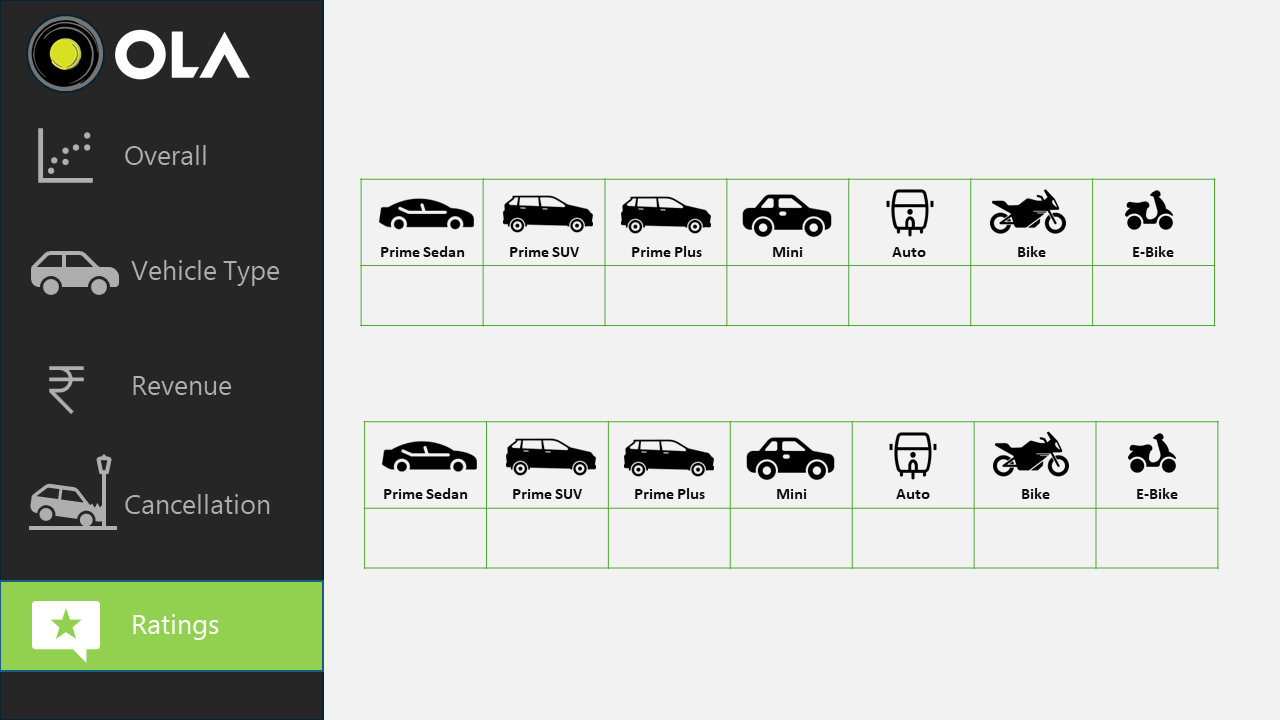

The page's visual inventory and layout, read from the dashboard file:
{"tool":"powerbi","page":{"name":"Ratings","canvas":[1280,720],"ordinal":4},"visuals":[{"type":"actionButton","box":[0,102.5,324.5,96.5],"z":0},{"type":"actionButton","box":[0,213.5,324.5,96.5],"z":1000},{"type":"actionButton","box":[0,336.6,324.5,96.5],"z":2000},{"type":"actionButton","box":[0,447.6,324.5,96.5],"z":3000},{"type":"card","fields":{"Values":["Avg(July.Driver_Ratings)"]},"box":[362.3,262.1,119.4,57.6],"z":4000},{"type":"card","fields":{"Values":["Avg(July.Driver_Ratings)"]},"box":[481.6,262.1,119.4,57.6],"z":5000},{"type":"card","fields":{"Values":["Avg(July.Driver_Ratings)"]},"box":[601,262.1,119.4,57.6],"z":6000},{"type":"card","fields":{"Values":["Avg(July.Driver_Ratings)"]},"box":[731.4,262.1,119.4,57.6],"z":7000},{"type":"card","fields":{"Values":["Avg(July.Driver_Ratings)"]},"box":[850.8,262.1,119.4,57.6],"z":8000},{"type":"card","fields":{"Values":["Avg(July.Driver_Ratings)"]},"box":[970.2,262.1,119.4,57.6],"z":9000},{"type":"card","fields":{"Values":["Avg(July.Driver_Ratings)"]},"box":[1089.5,262.1,119.4,57.6],"z":10000},{"type":"textbox","box":[362.3,105.7,170.2,45.3],"z":11000},{"type":"textbox","box":[362.3,359.5,170.2,45.3],"z":12000},{"type":"card","fields":{"Values":["Avg(July.Customer_Rating)"]},"box":[363.6,505,119.4,57.6],"z":13000},{"type":"card","fields":{"Values":["Avg(July.Customer_Rating)"]},"box":[481.6,505,119.4,57.6],"z":14000},{"type":"card","fields":{"Values":["Avg(July.Customer_Rating)"]},"box":[612,505,119.4,57.6],"z":15000},{"type":"card","fields":{"Values":["Avg(July.Customer_Rating)"]},"box":[731.4,505,119.4,57.6],"z":16000},{"type":"card","fields":{"Values":["Avg(July.Customer_Rating)"]},"box":[850.8,505,119.4,57.6],"z":17000},{"type":"card","fields":{"Values":["Avg(July.Customer_Rating)"]},"box":[970.2,505,119.4,57.6],"z":18000},{"type":"card","fields":{"Values":["Avg(July.Customer_Rating)"]},"box":[1089.5,505,119.4,57.6],"z":19000},{"type":"slicer","title":"Date","fields":{"Values":["July.Date"]},"box":[896.1,16.5,312.9,122.1],"z":19001}]}

Visuals, with their boxes on the page's 1280x720 design canvas (x1, y1, x2, y2). These are canvas units, not pixel positions in the 1280x720 screenshot, which may show the page scaled, cropped or inside an application window:
actionButton: [left=0, top=102, right=324, bottom=199]
actionButton: [left=0, top=214, right=324, bottom=310]
actionButton: [left=0, top=337, right=324, bottom=433]
actionButton: [left=0, top=448, right=324, bottom=544]
card - Avg(July.Driver_Ratings): [left=362, top=262, right=482, bottom=320]
card - Avg(July.Driver_Ratings): [left=482, top=262, right=601, bottom=320]
card - Avg(July.Driver_Ratings): [left=601, top=262, right=720, bottom=320]
card - Avg(July.Driver_Ratings): [left=731, top=262, right=851, bottom=320]
card - Avg(July.Driver_Ratings): [left=851, top=262, right=970, bottom=320]
card - Avg(July.Driver_Ratings): [left=970, top=262, right=1090, bottom=320]
card - Avg(July.Driver_Ratings): [left=1090, top=262, right=1209, bottom=320]
textbox: [left=362, top=106, right=532, bottom=151]
textbox: [left=362, top=360, right=532, bottom=405]
card - Avg(July.Customer_Rating): [left=364, top=505, right=483, bottom=563]
card - Avg(July.Customer_Rating): [left=482, top=505, right=601, bottom=563]
card - Avg(July.Customer_Rating): [left=612, top=505, right=731, bottom=563]
card - Avg(July.Customer_Rating): [left=731, top=505, right=851, bottom=563]
card - Avg(July.Customer_Rating): [left=851, top=505, right=970, bottom=563]
card - Avg(July.Customer_Rating): [left=970, top=505, right=1090, bottom=563]
card - Avg(July.Customer_Rating): [left=1090, top=505, right=1209, bottom=563]
"Date" slicer: [left=896, top=16, right=1209, bottom=139]
